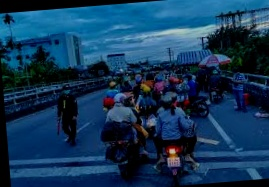Bien-so: (149, 158, 162, 170)
